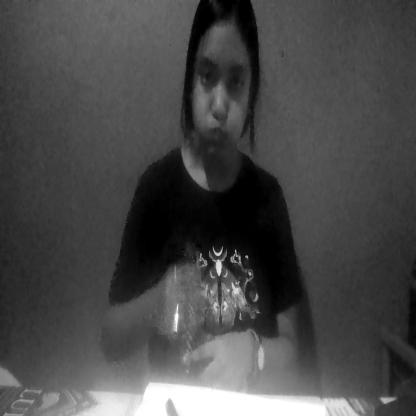Normal: (185, 0, 256, 169)
